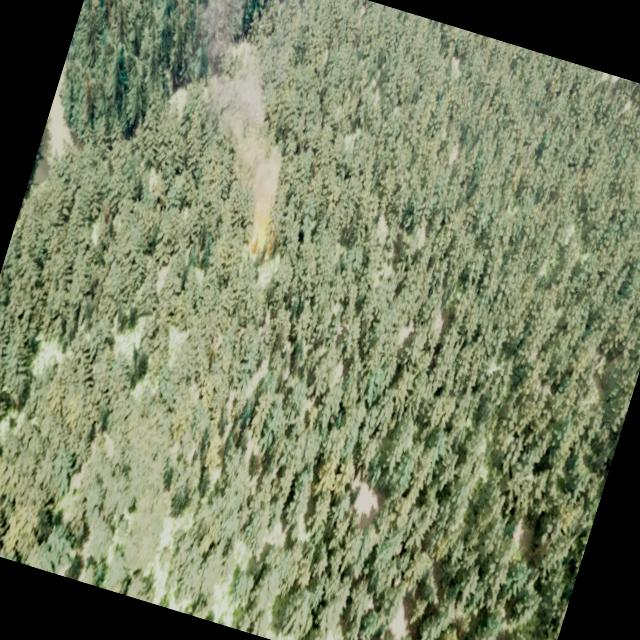fire: (238, 219, 278, 266)
smoke: (150, 0, 338, 224)
